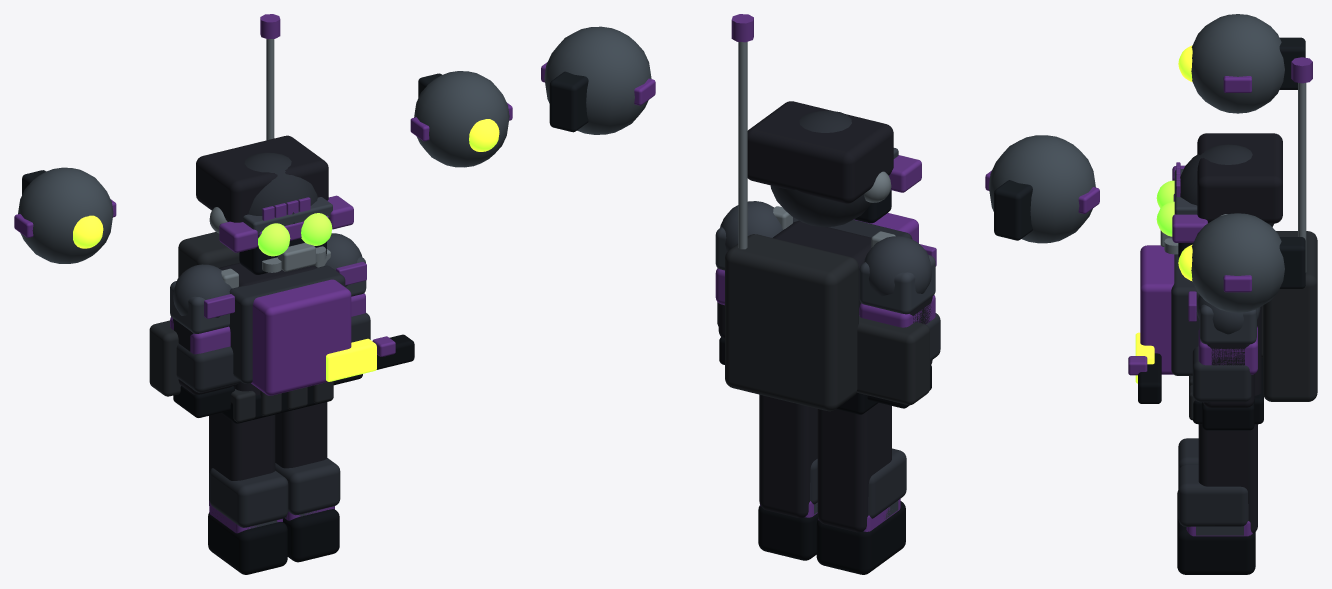
The model's file is aegis_l04.glb.
The picture shows the model from 3 angles, left to right: view 1: azimuth 30°, elevation 25°; view 2: azimuth 150°, elevation 25°; view 3: azimuth 270°, elevation 25°; orthographic projection. The views are drawn at different scales.
Visible parts, largest first — view 1: interceptor_core (×2), control_vest, trouser (×2), shaped_knee_guard (×2), hood, boot (×2), segmented_vest, shoulder_joint (×2), rounded_helmet, forearm_plate, map_satchel, field_pack (+16 smaller); view 2: field_pack, interceptor_core (×2), trouser (×2), hood, boot (×2), map_satchel, shoulder_joint (×2), interceptor_tail (×2), rounded_helmet, body, shoulder_plate, signal_mast (+4 smaller); view 3: interceptor_core (×2), field_pack, hood, trouser, shaped_knee_guard (×2), control_vest, boot, segmented_vest, forearm_plate, interceptor_tail (×2), rounded_helmet, signal_mast (+20 smaller).
Boxes of the visible parts, x1,y1,x2,y2 form: interceptor_core (×2): (18,71,509,263); control_vest: (251,279,351,395); trouser (×2): (209,402,327,505); shaped_knee_guard (×2): (209,458,340,527); hood: (196,135,328,222); boot (×2): (208,509,339,574); segmented_vest: (229,265,345,383); shoulder_joint (×2): (173,233,362,317); rounded_helmet: (244,152,317,223); forearm_plate: (176,343,240,392); map_satchel: (149,320,180,396); field_pack: (178,232,239,277); field_pack: (725,234,858,411); interceptor_core (×2): (544,26,1095,243); trouser (×2): (759,394,891,532); hood: (747,101,893,203); boot (×2): (758,501,905,574); map_satchel: (857,315,929,405); shoulder_joint (×2): (720,201,931,296); interceptor_tail (×2): (549,71,1032,240); rounded_helmet: (770,110,871,226); body: (773,220,871,314); shoulder_plate: (859,254,935,314); signal_mast: (738,42,747,249); interceptor_core (×2): (1191,14,1284,312); field_pack: (1263,231,1317,401); hood: (1197,133,1282,223); trouser: (1198,424,1257,533); shaped_knee_guard (×2): (1178,438,1247,526); control_vest: (1140,245,1174,374); boot: (1177,517,1255,574); segmented_vest: (1171,254,1199,375); forearm_plate: (1192,346,1251,402); interceptor_tail (×2): (1279,37,1305,288); rounded_helmet: (1176,144,1273,226); signal_mast: (1298,83,1306,272).
Size of the model in its own units: 2.43 by 2.36 by 0.795.
